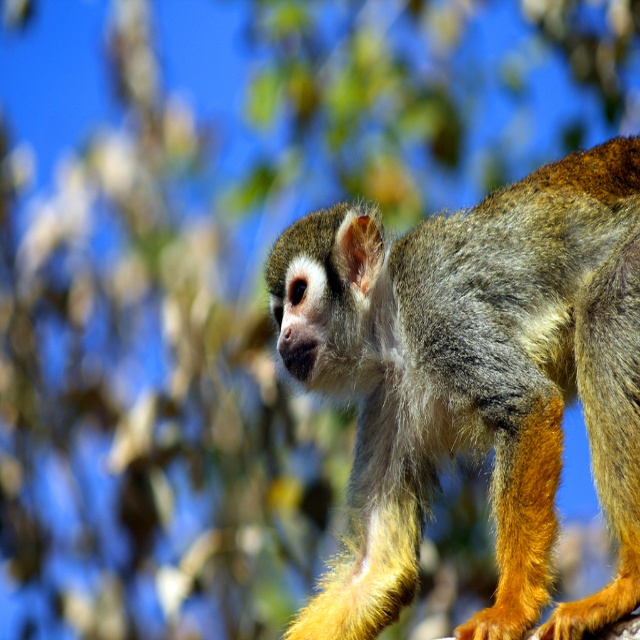Monkey: (266, 134, 639, 638)
